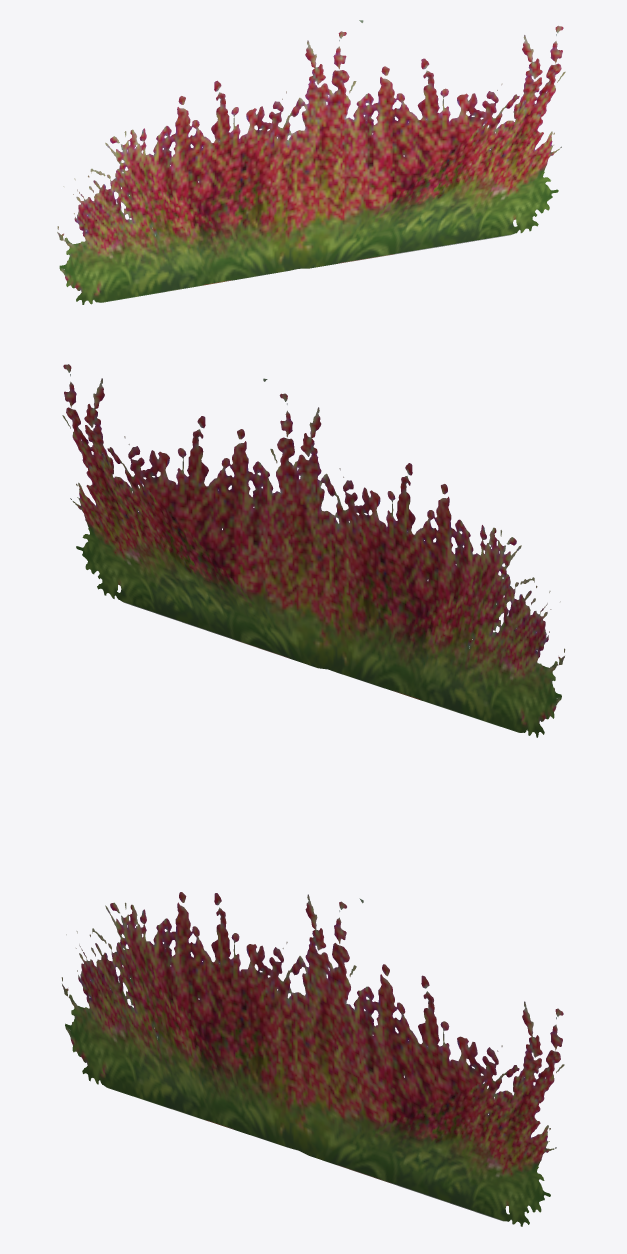
The model's file is Jiubajie_hua06_fbx.FBX.
3 renders of one model, top to bottom at view 1: azimuth 30°, elevation 25°; view 2: azimuth 150°, elevation 25°; view 3: azimuth 330°, elevation 25°, orthographic. The views are drawn at different scales.
Visible parts, largest first — view 1: Jiubajie_hua06_fbx; view 2: Jiubajie_hua06_fbx; view 3: Jiubajie_hua06_fbx.
Part boxes in pixels (bbox=[...]): Jiubajie_hua06_fbx: bbox=[57, 20, 565, 304]; Jiubajie_hua06_fbx: bbox=[62, 364, 565, 737]; Jiubajie_hua06_fbx: bbox=[61, 892, 564, 1226].
Bounding box in the file's own units: 1.07 × 0.4663 × 0.124.
Materials: 1 (1 with a texture image).
